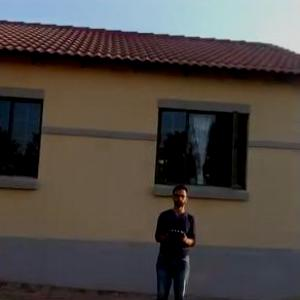follow: (149, 180, 199, 299)
